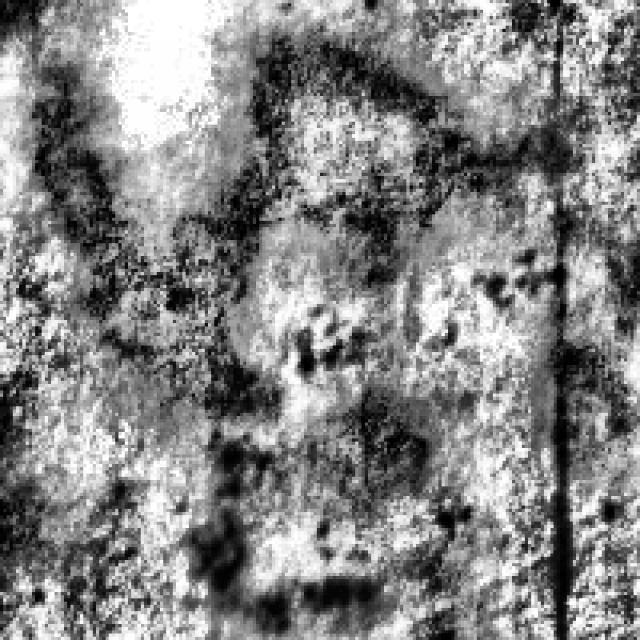Patches: (173, 470, 368, 621)
Scratches: (16, 16, 518, 416), (288, 381, 451, 634)
